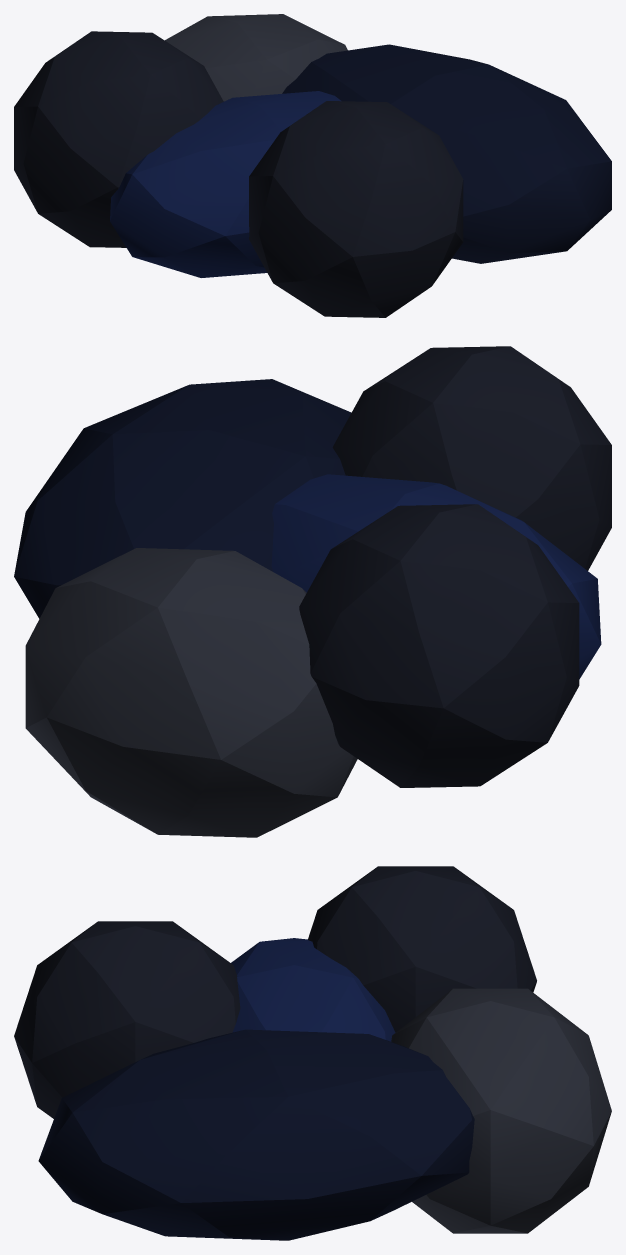
Rendered from Cloud0.fbx.
3 renders of one model, top to bottom at view 1: azimuth 30°, elevation 25°; view 2: azimuth 150°, elevation 25°; view 3: azimuth 270°, elevation 25°, orthographic. The views are drawn at different scales.
Parts seen in each view (by area): view 1: icosphere (×5); view 2: icosphere (×5); view 3: icosphere (×5).
Boxes of the visible parts, box(x1,y1,x2,y2) form: icosphere (×5): box(14, 14, 611, 317); icosphere (×5): box(14, 346, 611, 837); icosphere (×5): box(14, 866, 611, 1240).
Size of the model in its own units: 31.43 by 16 by 32.
